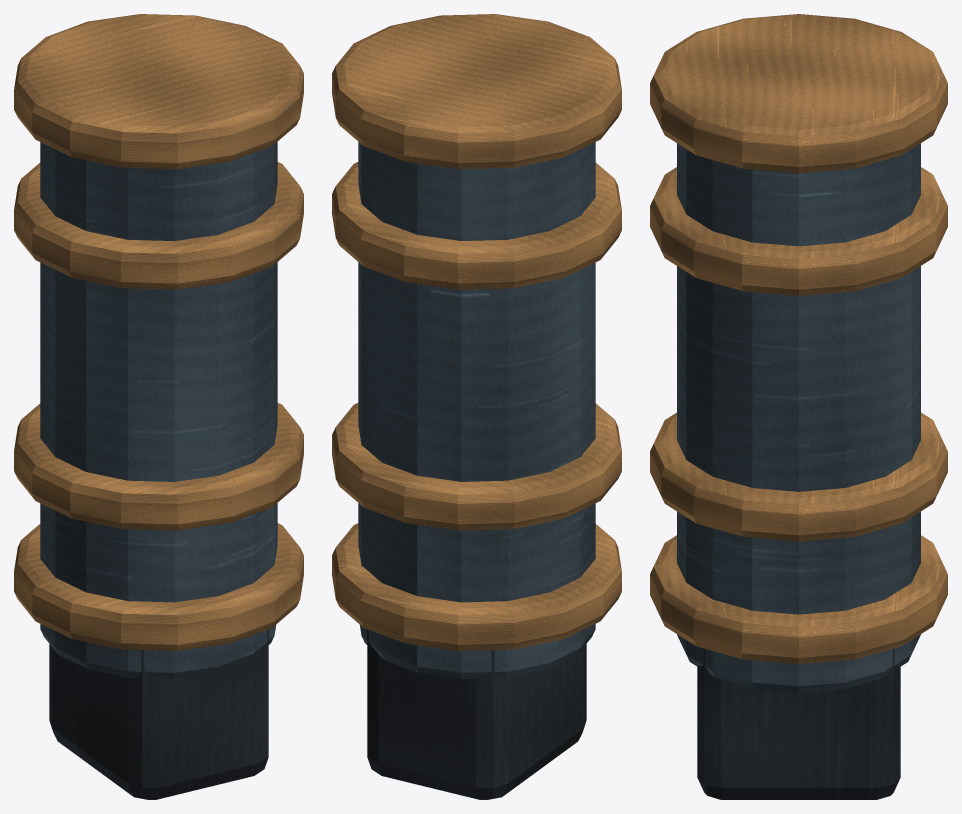
The model's file is cannon.glb.
3 renders of one model, left to right at view 1: azimuth 30°, elevation 25°; view 2: azimuth 150°, elevation 25°; view 3: azimuth 270°, elevation 25°, orthographic.
Parts seen in each view (by area): view 1: cannon; view 2: cannon; view 3: cannon.
Part boxes in pixels (<box>): cannon: <box>14,14,303,799</box>; cannon: <box>332,14,621,799</box>; cannon: <box>650,14,947,799</box>.
Size of the model in its own units: 0.44 by 1.15 by 0.44.
4 materials, 3 textured.
